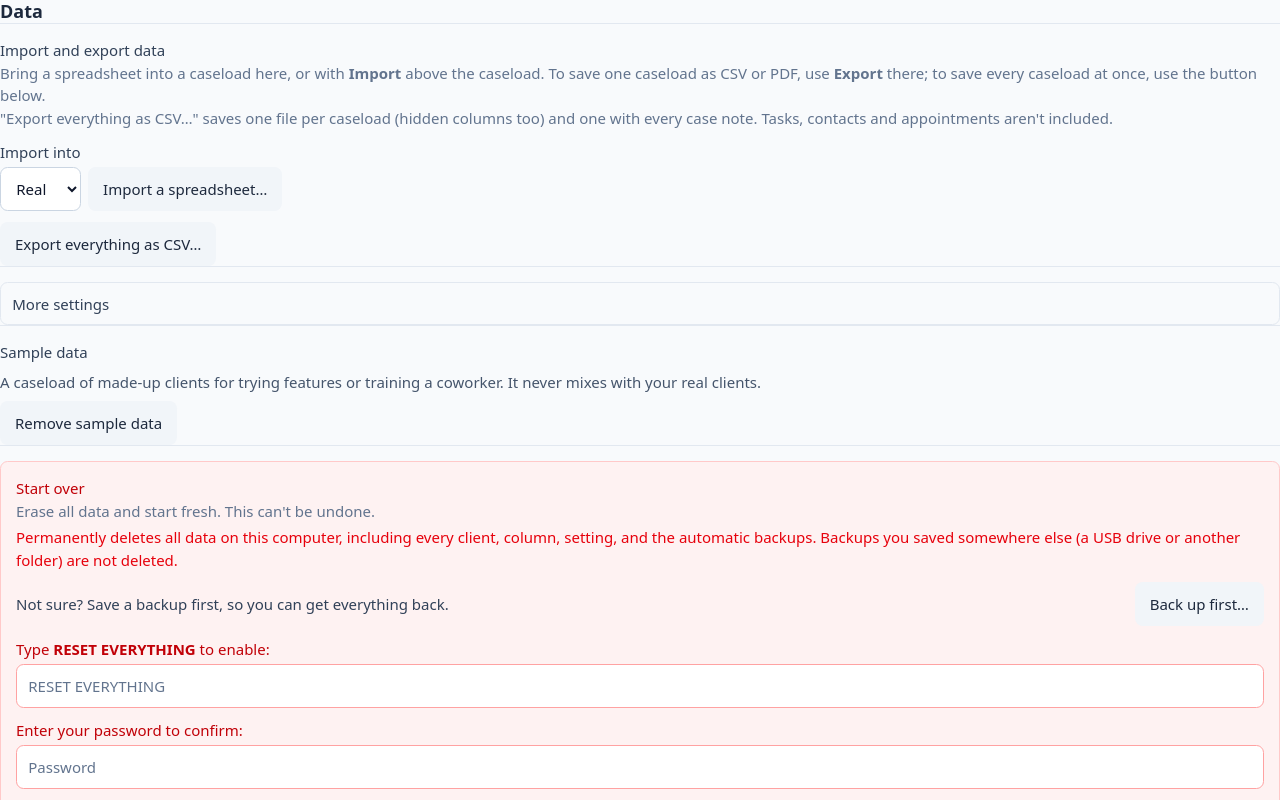
Test: remove sample data › Settings → Data asks first, too
This screenshot has width=1280, height=800.
Click the button "Remove sample data" at (89, 423), box [0, 401, 177, 445]
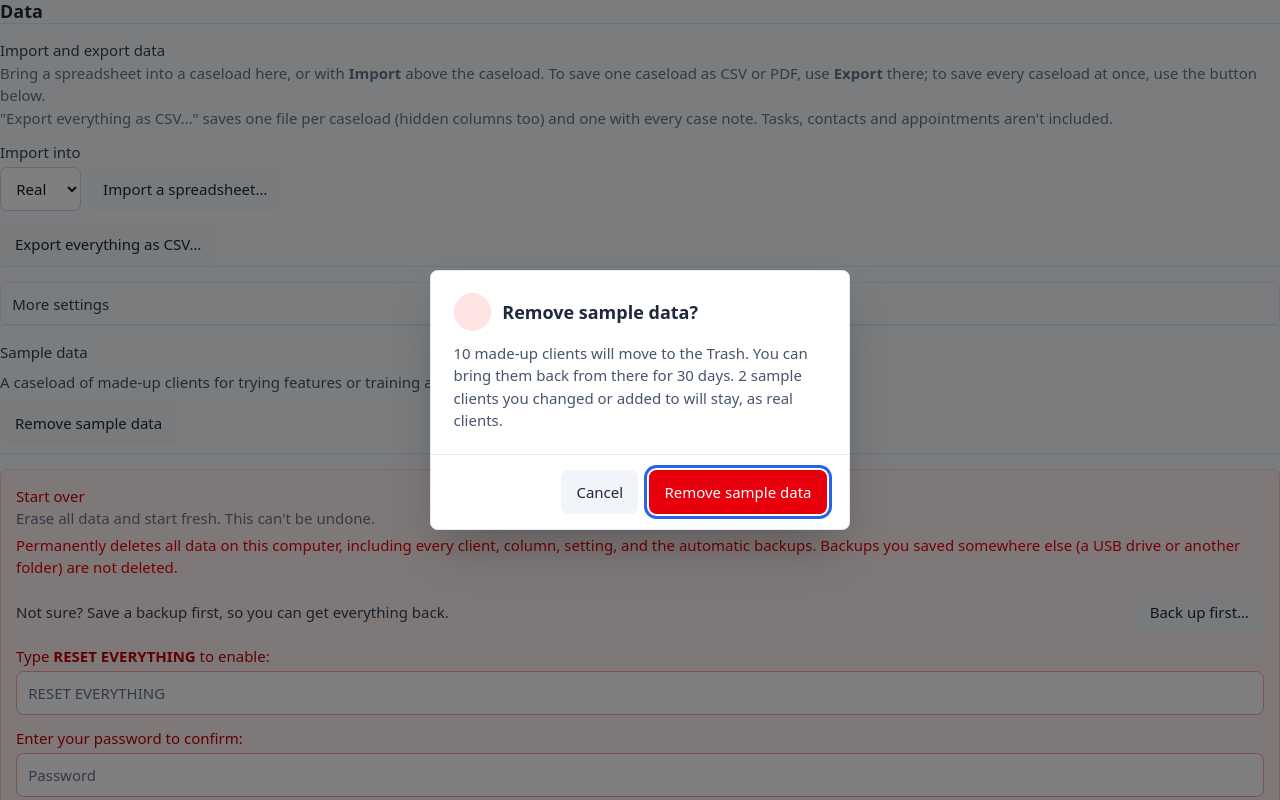
Check: the text "will move to the Trash" is shown, box [454, 343, 808, 430]
